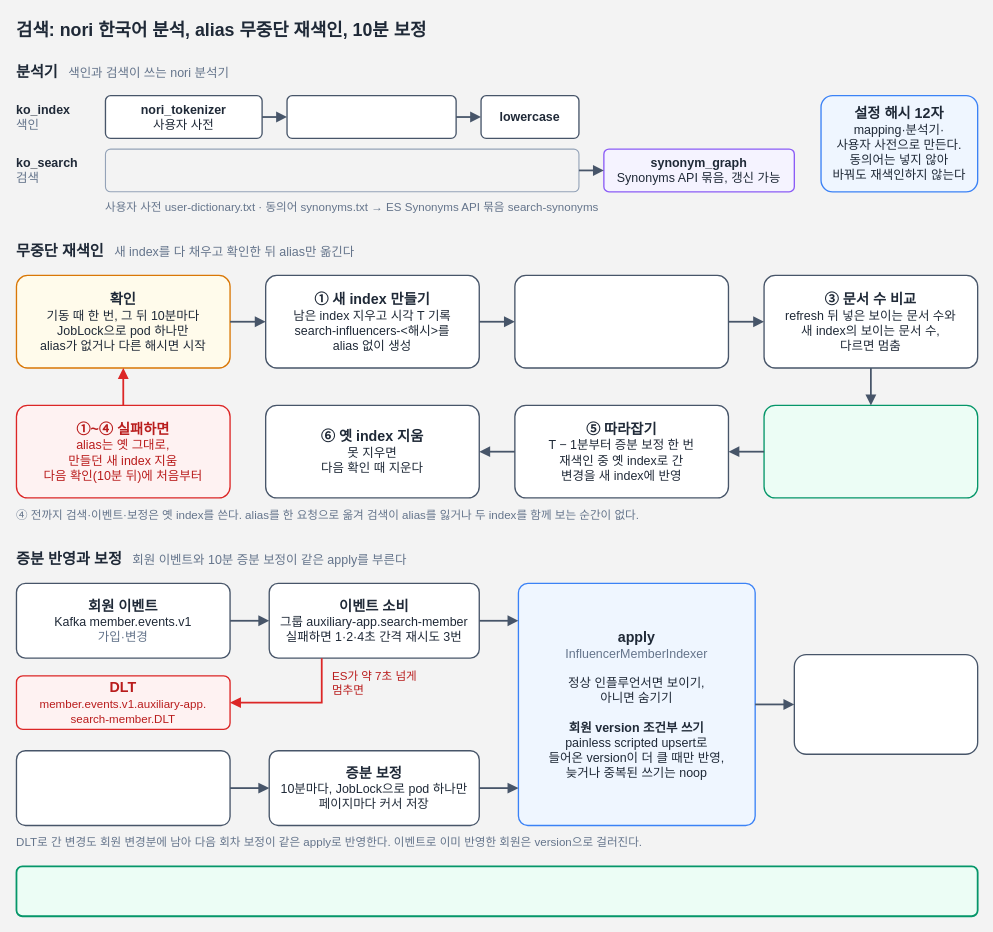
This 993x932 diagram has some shape labels left out. The centre of each missing label's shape, as x and y in pixels:
"ES alias search-influencers require_alias로 alias에만 쓴다" goes at (885,704).
"ko_index와 같은 세 단계" goes at (341,170).
"nori_part_of_speech" goes at (371,117).
"② 채우기 회원 목록을 500명씩 끝까지 bulk 정상 인플루언서는 보이는 문서, 그 밖의 회원은 숨김 문서" goes at (621,321).
"④ alias 옮기기 search-influencers를 옛 index → 새 index로 한 요청(remove + add)" goes at (870,451).
"검색을 멈추지 않고 재색인하고, 사람이 DLT를 되돌리지 않아도 다음 회차에 맞춰진다" goes at (496,891).
"회원 변경분 내부 API 커서 − 1분부터 500명씩 끝까지" goes at (122,788).
